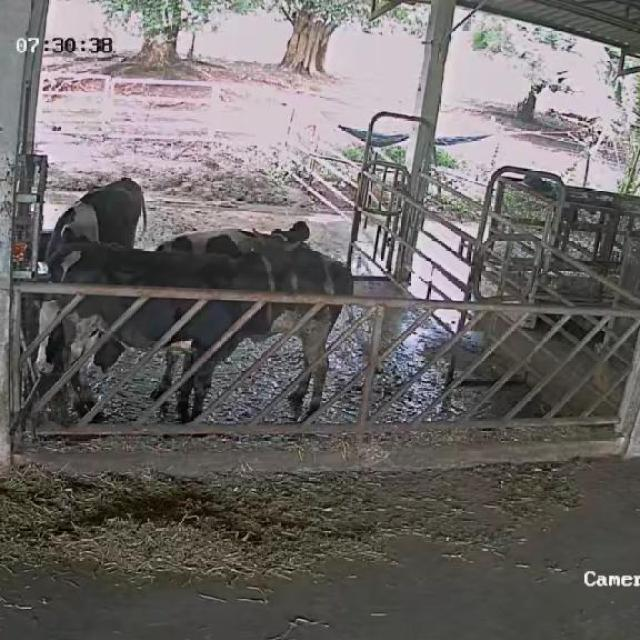standing: (154, 226, 354, 427), (18, 174, 143, 380)
